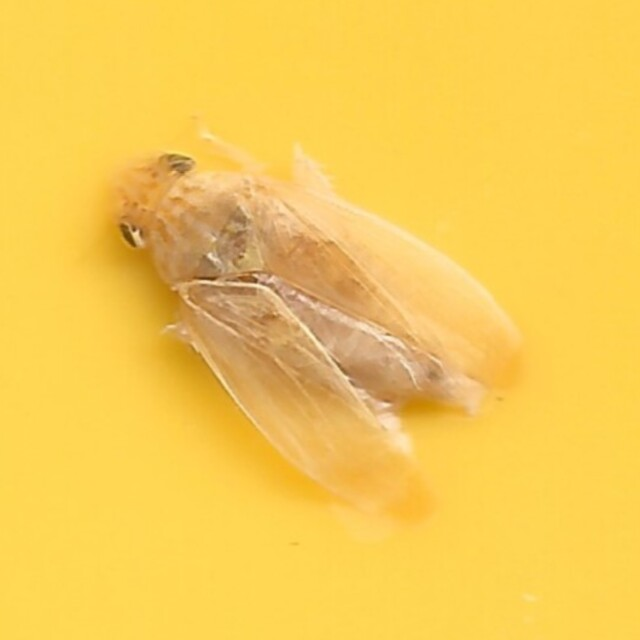Hemiptera: (121, 121, 519, 519)
